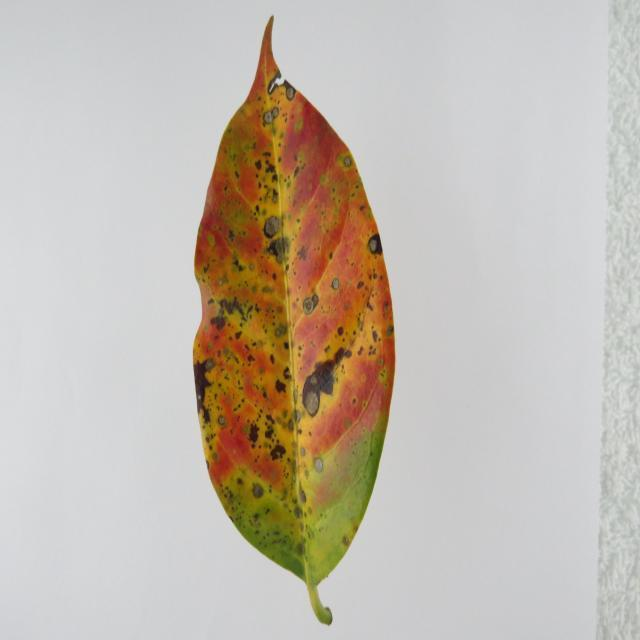DeficienciaNutricional-Fosforo: (194, 18, 395, 625)
